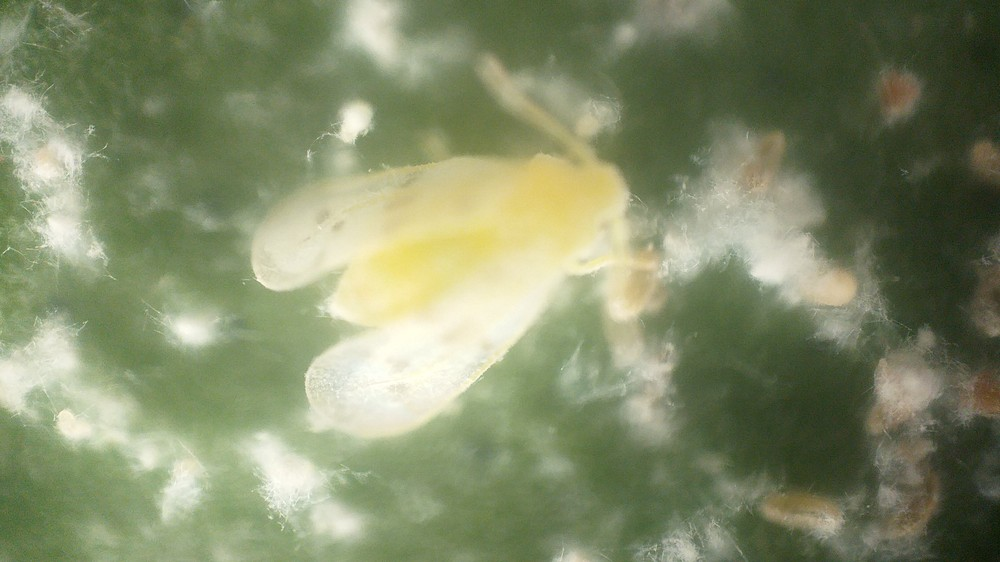Mosca Blanca: (240, 51, 675, 458)
